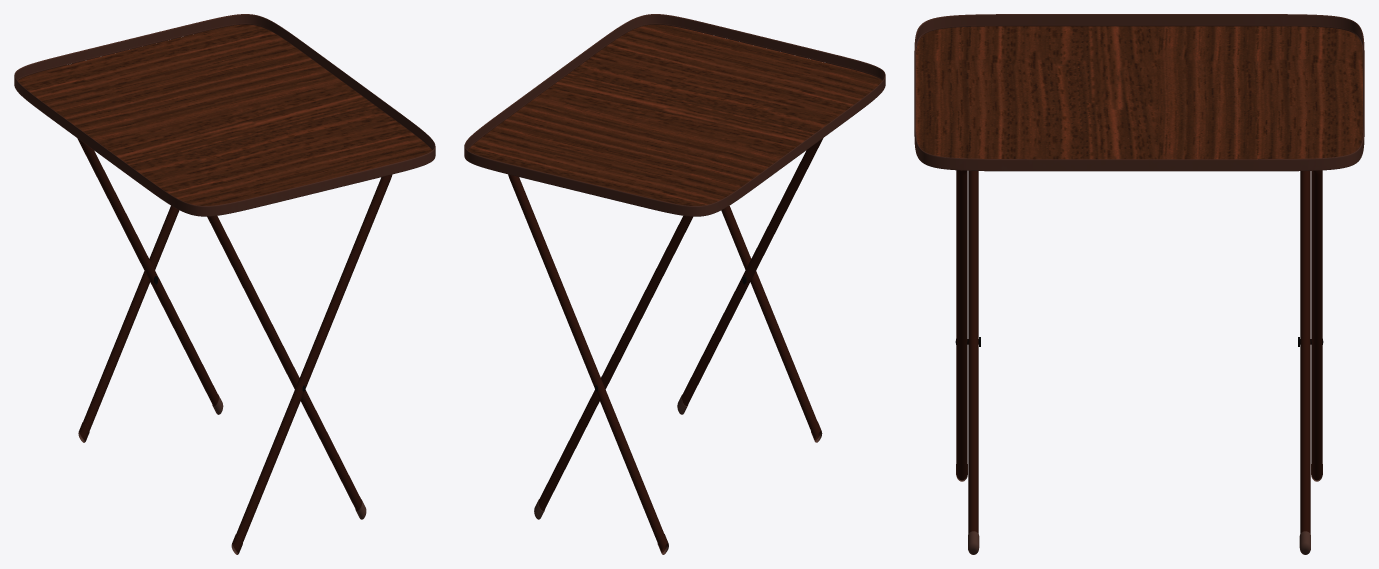
Rendered from table.glb.
3 renders of one model, left to right at view 1: azimuth 30°, elevation 25°; view 2: azimuth 150°, elevation 25°; view 3: azimuth 270°, elevation 25°, orthographic. The views are drawn at different scales.
Parts seen in each view (by area): view 1: Table; view 2: Table; view 3: Table.
Boxes of the visible parts, x1,y1,x2,y2 form: Table: (14,14,435,554); Table: (464,14,885,554); Table: (914,14,1364,554).
Size of the model in its own units: 0.3539 by 0.4892 by 0.4624.
1 material, 1 textured.
